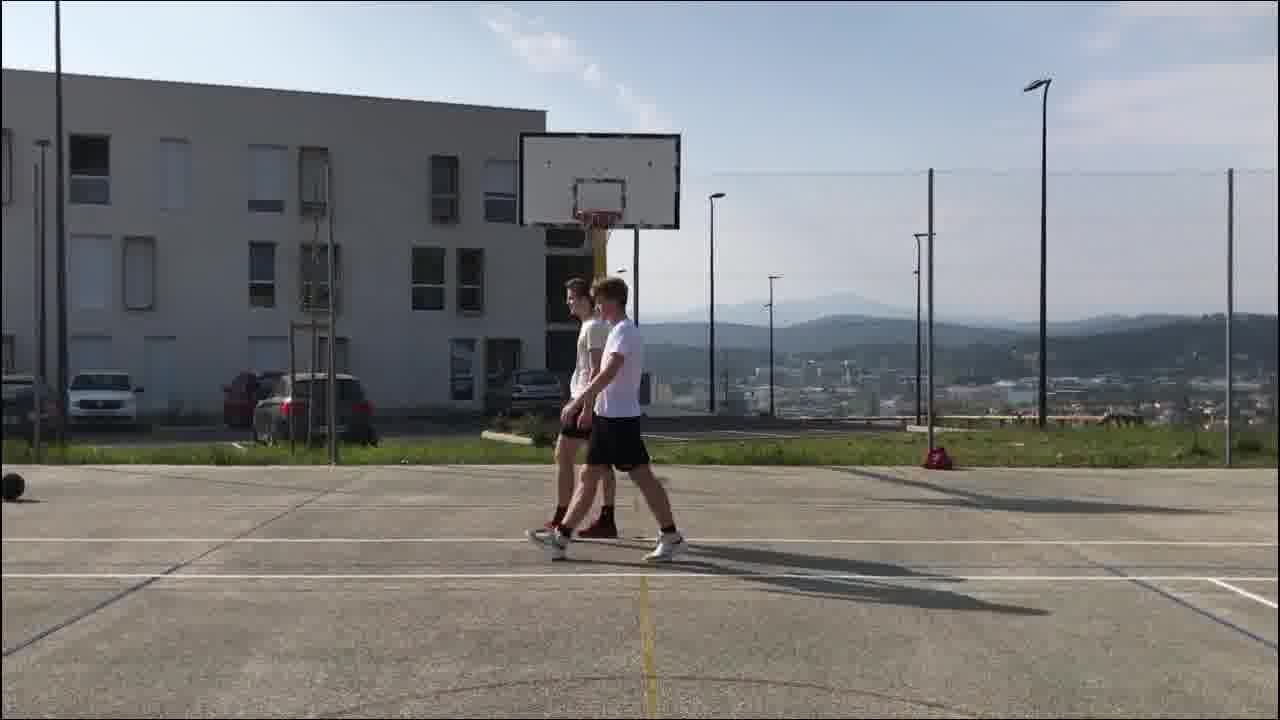jugador: (518, 264, 628, 551)
